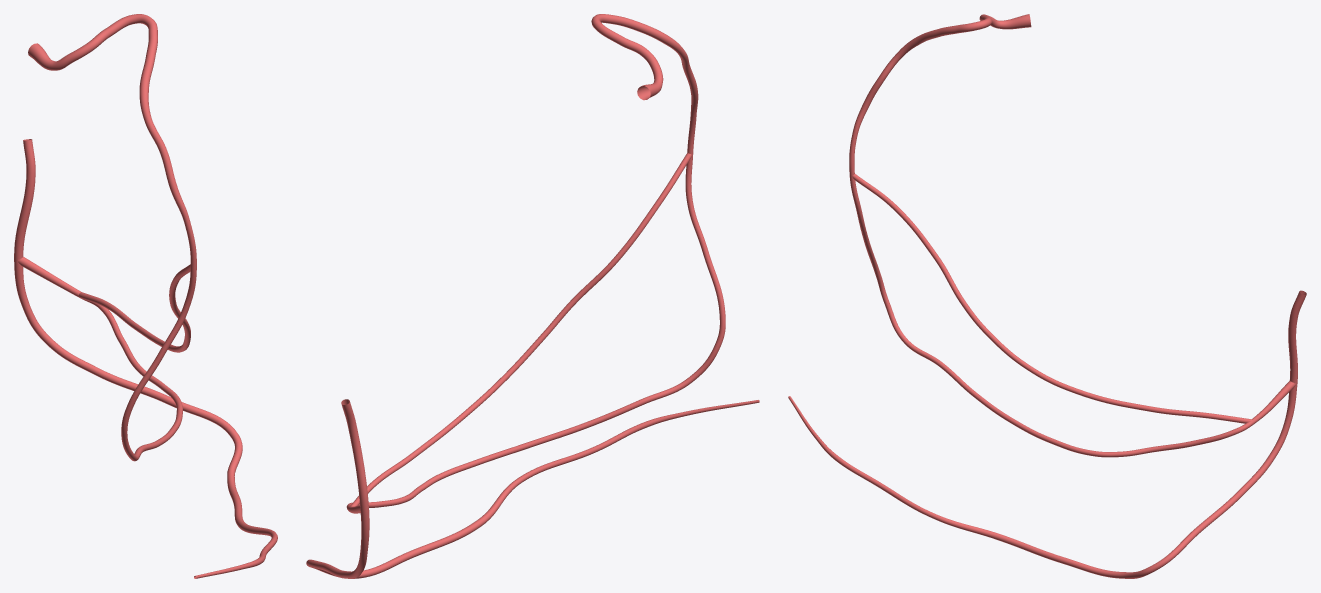
Rendered from Posterior_lateral_nasal_branches_of_sphenopalatine_artery.l_Bez.glb.
The picture shows the model from 3 angles, left to right: view 1: azimuth 30°, elevation 25°; view 2: azimuth 150°, elevation 25°; view 3: azimuth 270°, elevation 25°; orthographic projection. The views are drawn at different scales.
Visible parts, largest first — view 1: Posterior_lateral_nasal_branches_of_sphenopalatine_artery.l_; view 2: Posterior_lateral_nasal_branches_of_sphenopalatine_artery.l_; view 3: Posterior_lateral_nasal_branches_of_sphenopalatine_artery.l_.
Part boxes in pixels (<box>): Posterior_lateral_nasal_branches_of_sphenopalatine_artery.l_: <box>14,14,277,578</box>; Posterior_lateral_nasal_branches_of_sphenopalatine_artery.l_: <box>306,14,759,578</box>; Posterior_lateral_nasal_branches_of_sphenopalatine_artery.l_: <box>788,14,1306,578</box>.
Bounding box in the file's own units: 0.0208 × 0.0399 × 0.0385.
